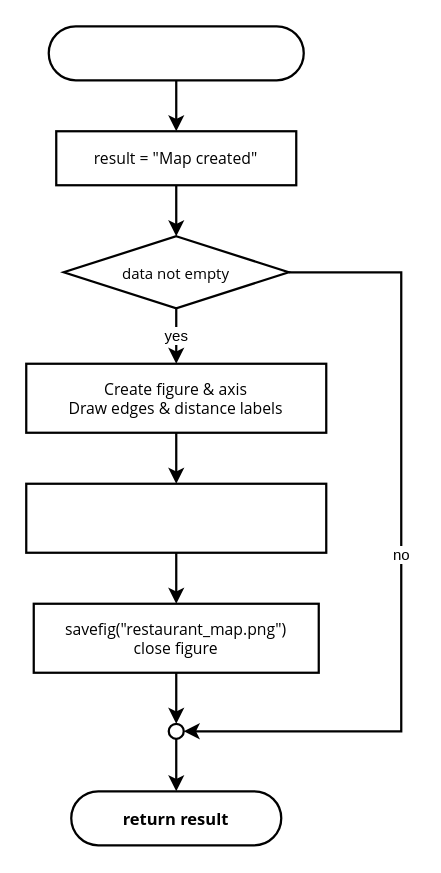
The diagram is 441 pixels wide and 873 high, and some of its shapes have lost their labels. The shapes that lost their labels are listed below. From the top down, each one's centre as x and y in pixels, then its label:
the point at 175,52: generate_map(data)
the point at 175,517: Draw table nodes (circles) Labels (Name & SLD)
